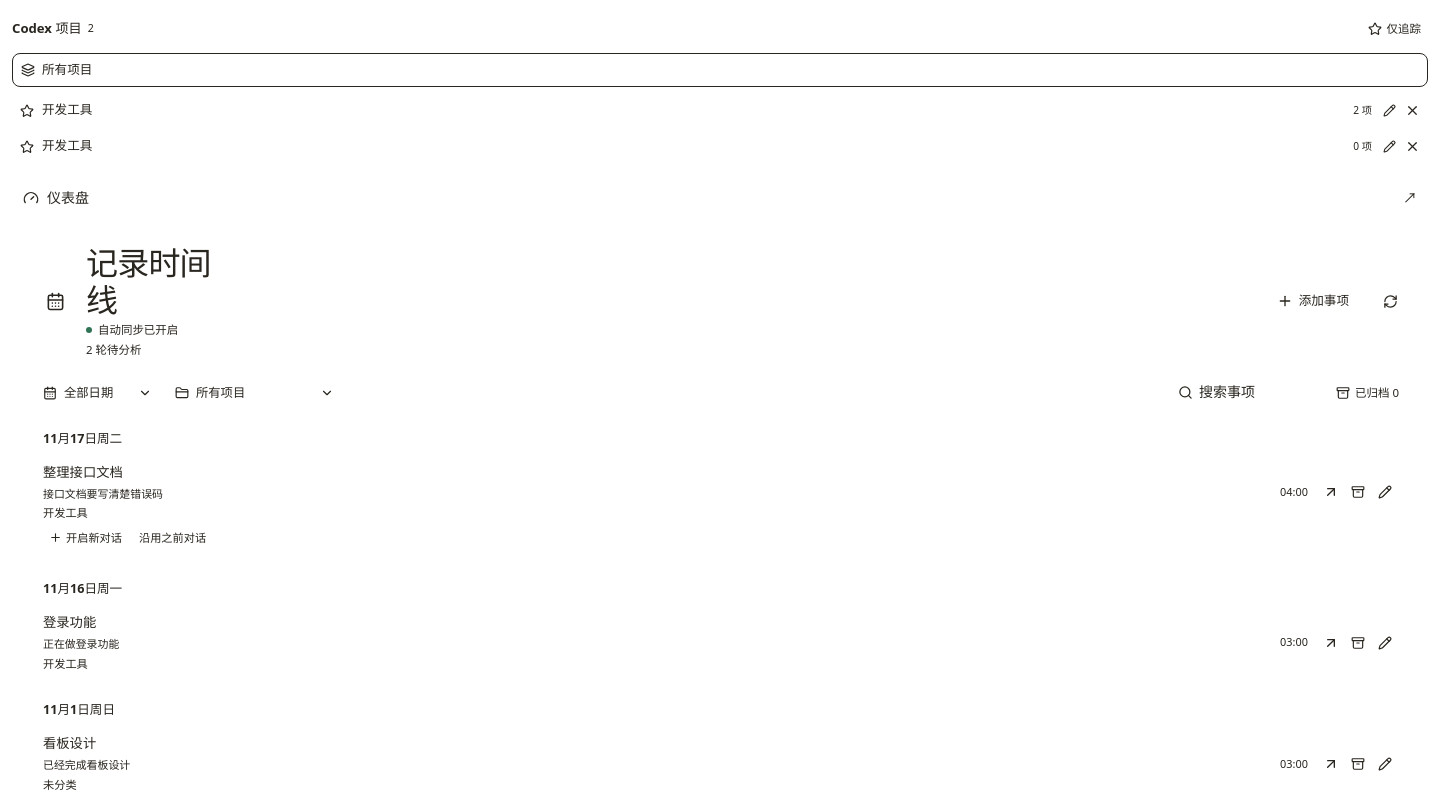
Test: distinguishes separate Codex project IDs even when name and path match
The image size is (1440, 810).
Click the dropdown labelled "所有项目": (254, 393) [166, 376, 342, 410]
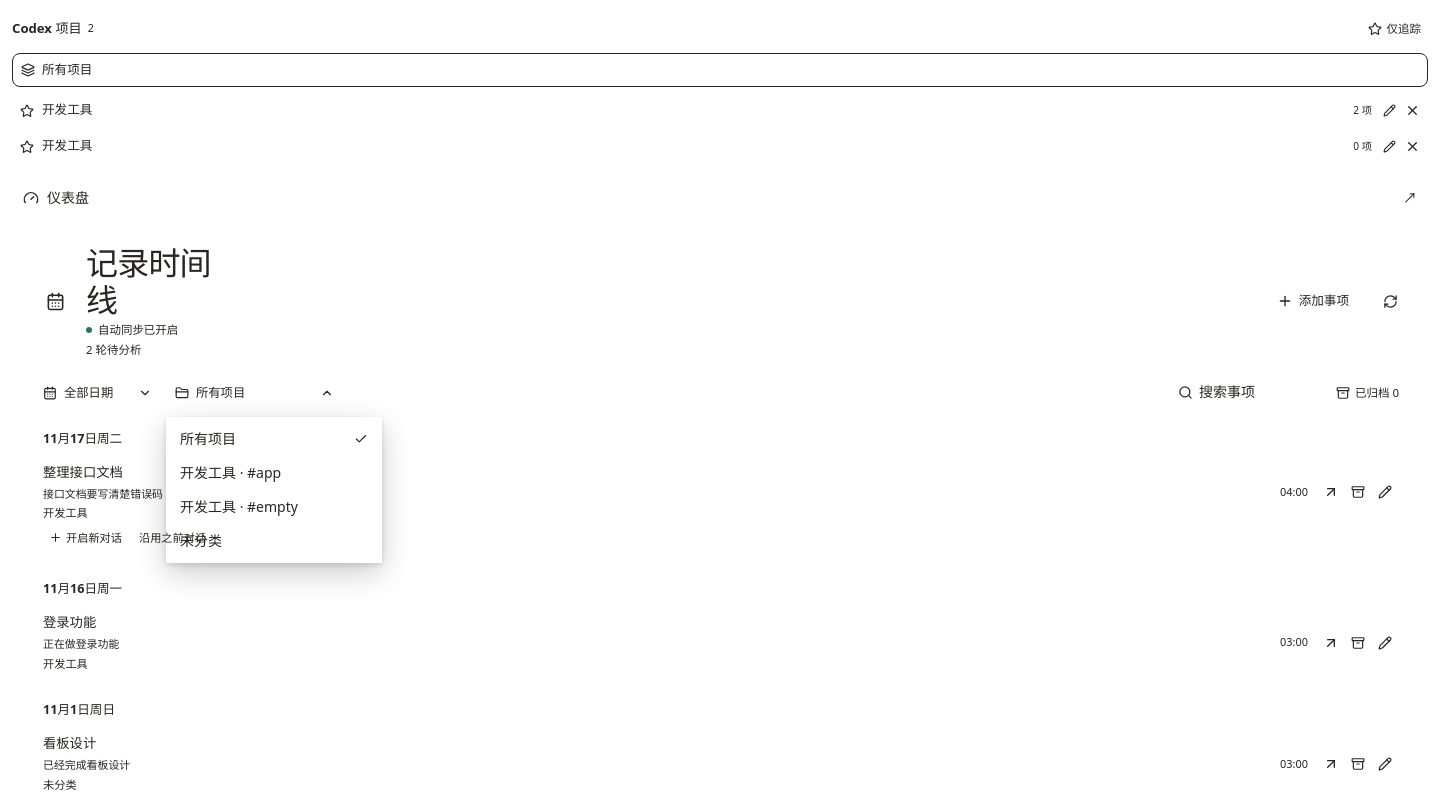
Click the option "开发工具 · #empty": (239, 507) [180, 497, 298, 516]
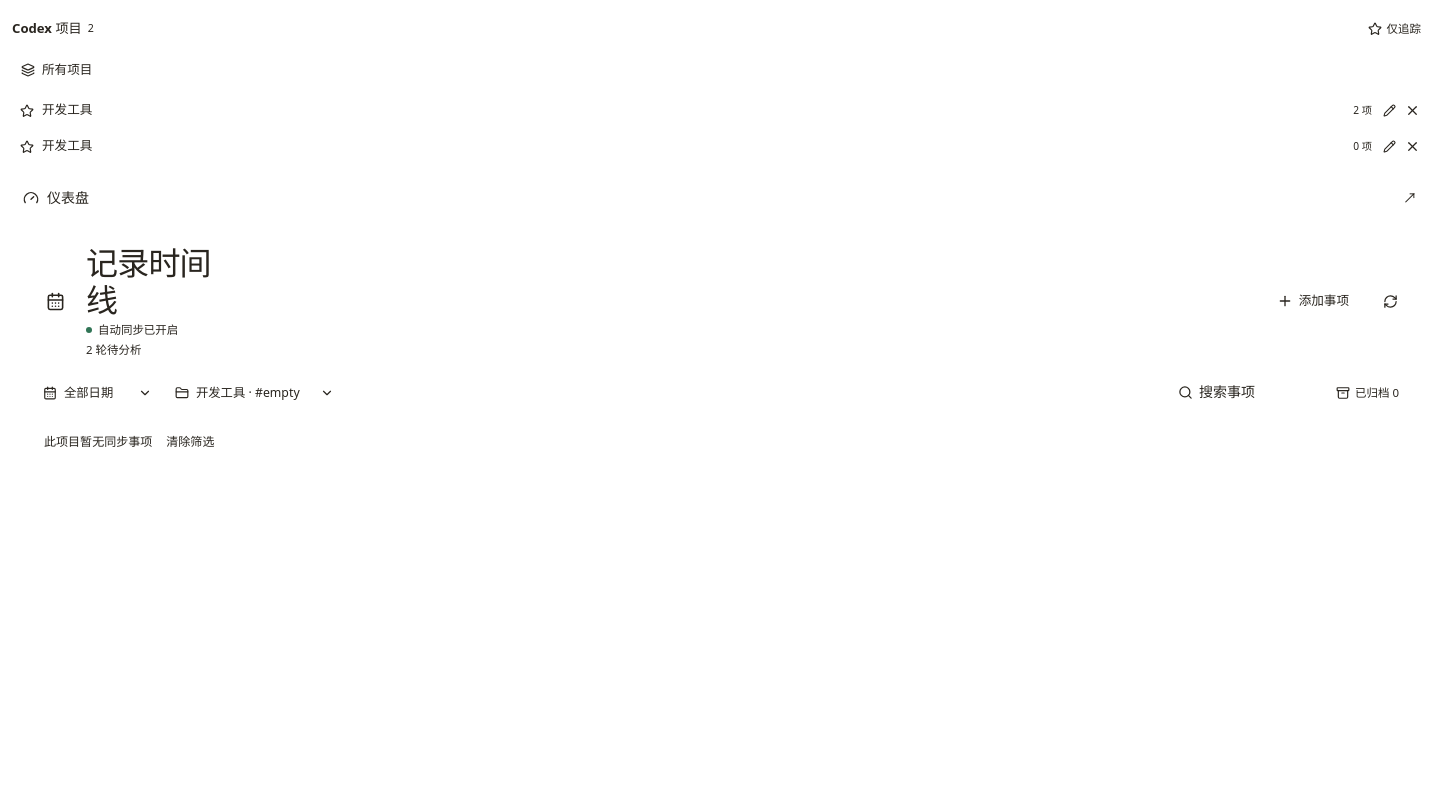
Click the button with id "empty": (1390, 146) [1378, 134, 1401, 160]
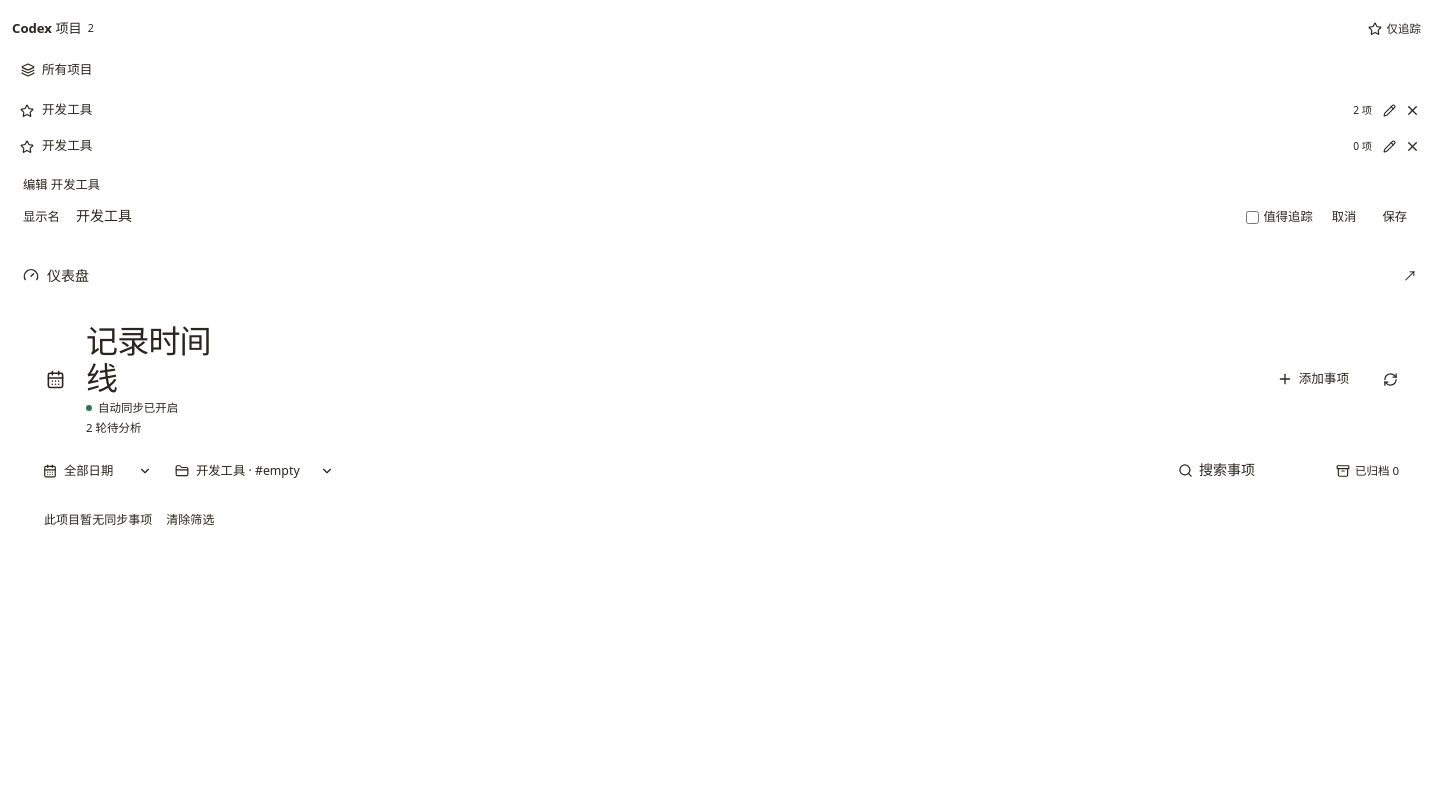
Expected: the text "编辑 开发工具" is shown, [23, 176, 100, 193]
